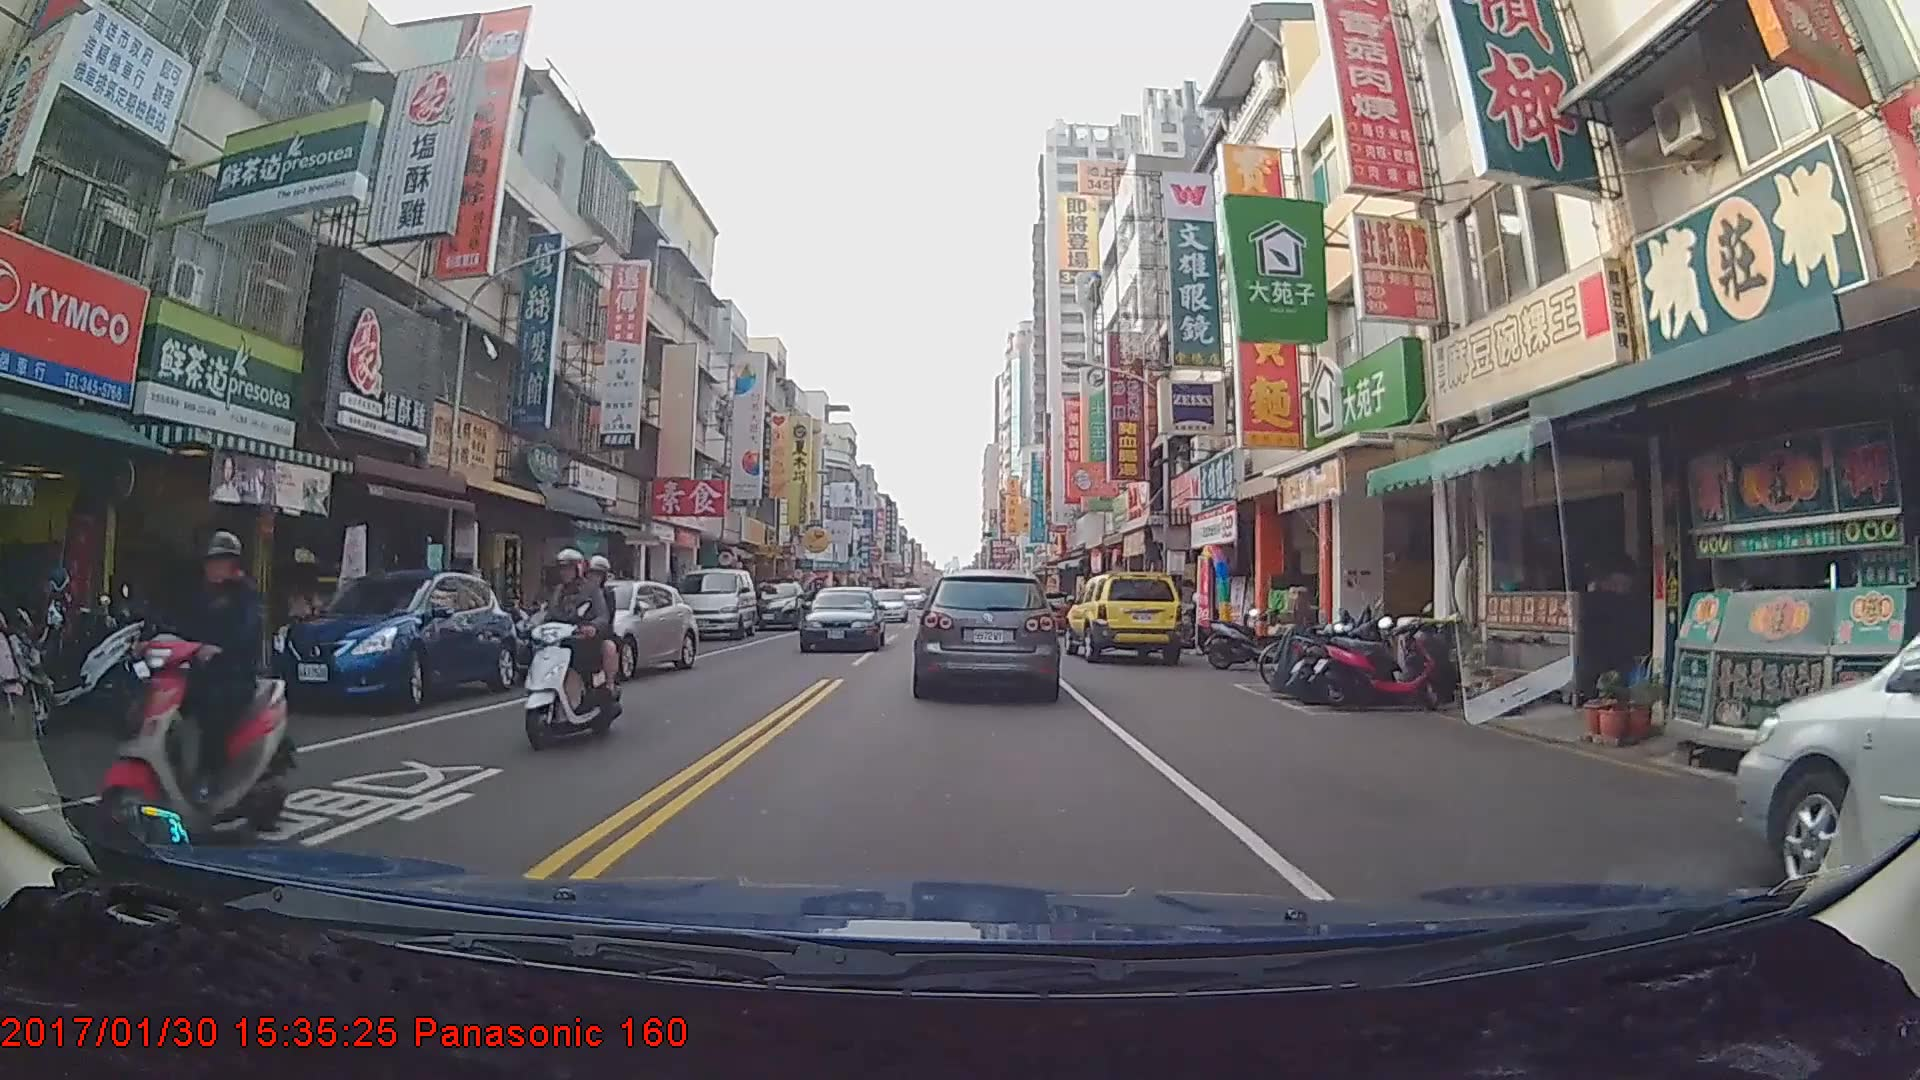rider: (99, 531, 297, 862), (520, 547, 632, 751)
vehicle: (1734, 550, 1919, 965), (264, 563, 515, 706), (512, 582, 699, 683), (914, 568, 1057, 698), (1064, 566, 1186, 662), (675, 567, 756, 641), (797, 586, 882, 652), (757, 577, 811, 630), (864, 586, 907, 623)
